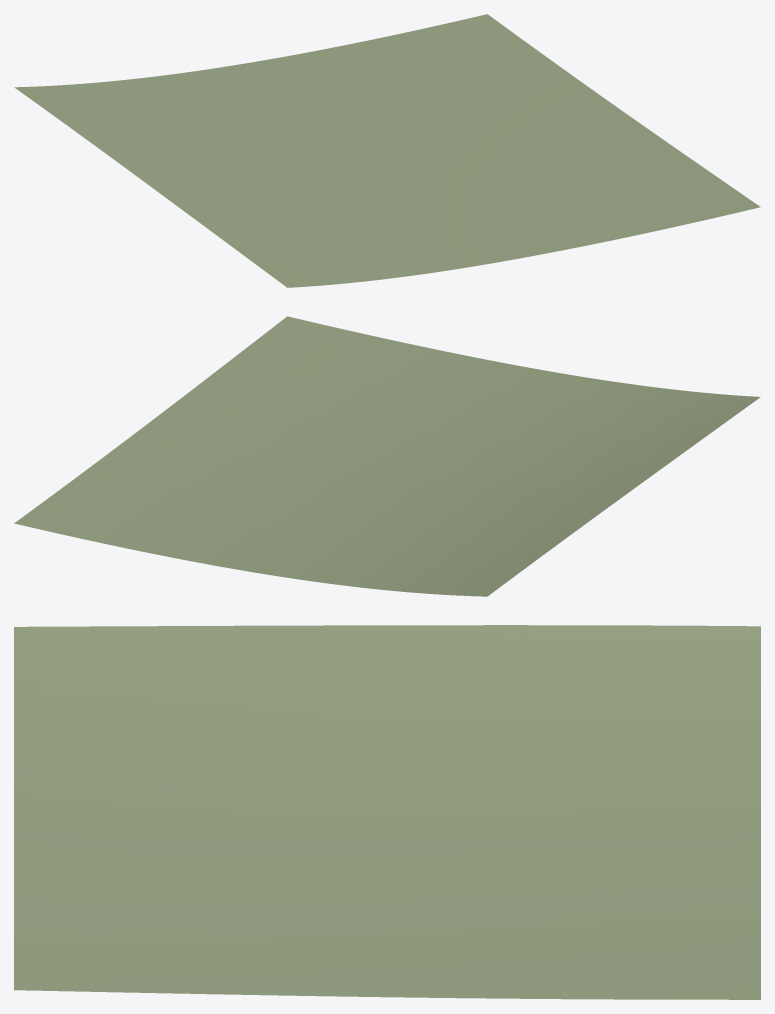
Rendered from expanse-31-25.glb.
The picture shows the model from 3 angles, top to bottom: view 1: azimuth 30°, elevation 25°; view 2: azimuth 150°, elevation 25°; view 3: azimuth 270°, elevation 25°; orthographic projection. The views are drawn at different scales.
Visible parts, largest first — view 1: expanse-31-25; view 2: expanse-31-25; view 3: expanse-31-25.
Part boxes in pixels (bbox=[...]): expanse-31-25: bbox=[14, 14, 760, 287]; expanse-31-25: bbox=[14, 316, 760, 596]; expanse-31-25: bbox=[14, 625, 760, 999].
Bounding box in the file's own units: 256 × 22.3 × 256.
